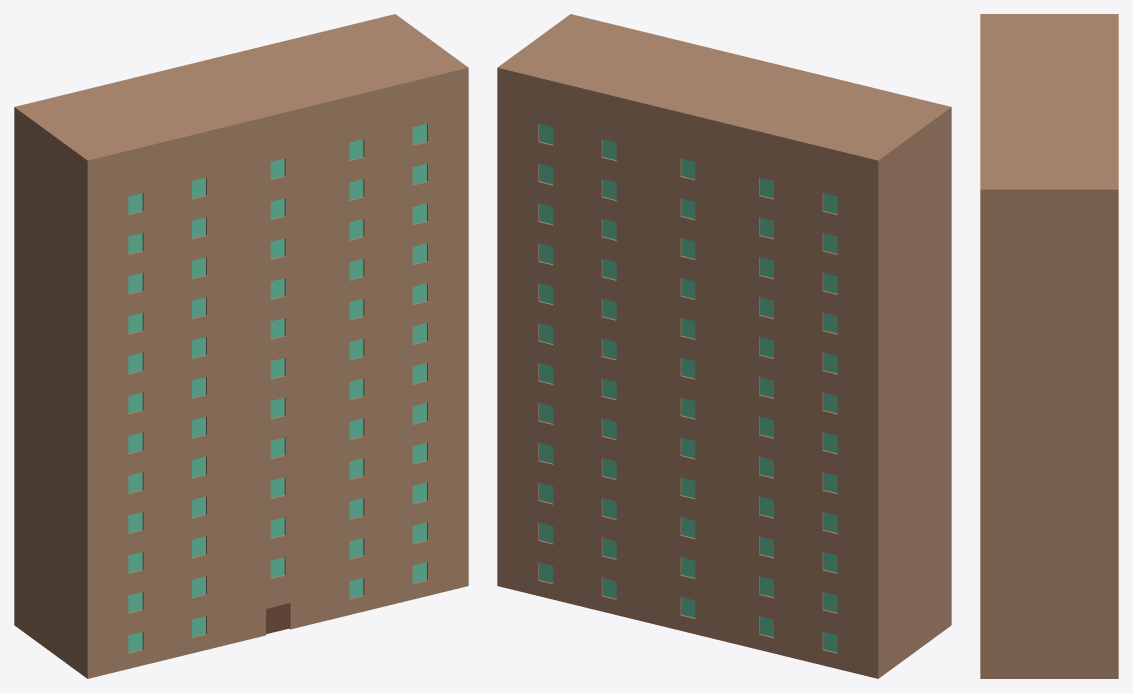
Rendered from skyscraper12.fbx.
3 renders of one model, left to right at view 1: azimuth 30°, elevation 25°; view 2: azimuth 150°, elevation 25°; view 3: azimuth 270°, elevation 25°, orthographic. The views are drawn at different scales.
Visible parts, largest first — view 1: Cube.003; view 2: Cube.003; view 3: Cube.003.
Boxes of the visible parts, x1,y1,x2,y2 form: Cube.003: [14, 14, 468, 678]; Cube.003: [497, 14, 951, 678]; Cube.003: [980, 14, 1118, 678].
Bounding box in the file's own units: 3000 × 3900 × 1000.
